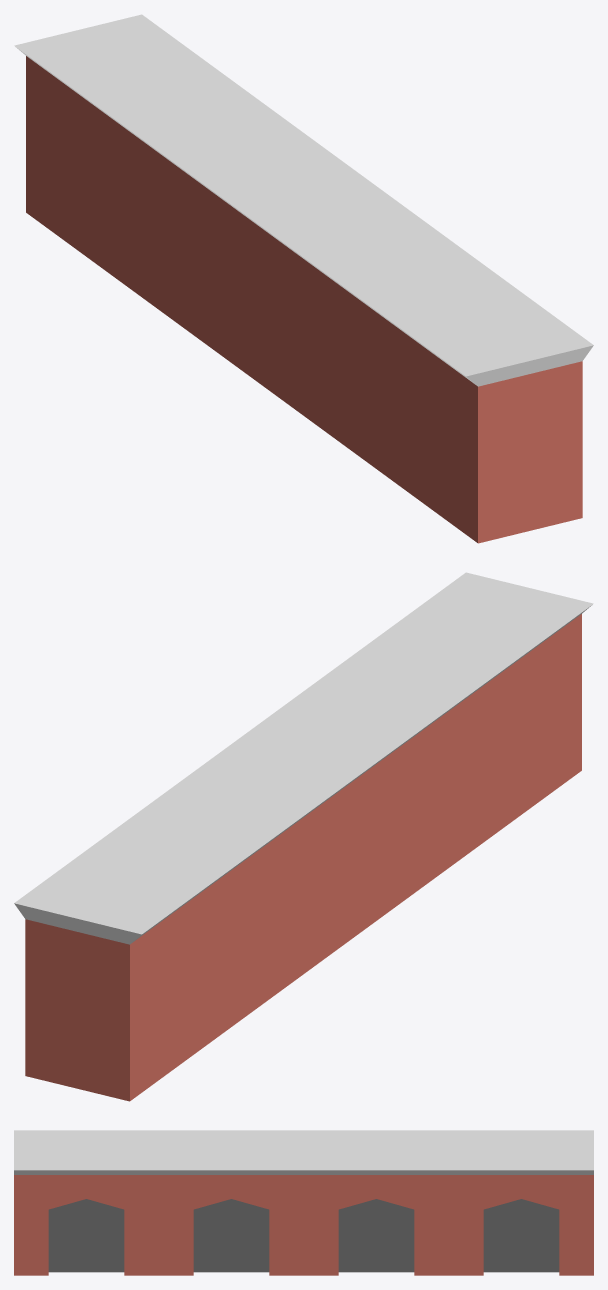
File: WallModel.dae
The picture shows the model from 3 angles, top to bottom: view 1: azimuth 30°, elevation 25°; view 2: azimuth 150°, elevation 25°; view 3: azimuth 270°, elevation 25°; orthographic projection. The views are drawn at different scales.
Parts seen in each view (by area): view 1: wall; view 2: wall; view 3: wall.
Boxes of the visible parts, x1,y1,x2,y2 form: wall: (14,14,593,543); wall: (14,572,593,1101); wall: (14,1130,593,1275).
Size of the model in its own units: 3.92 by 24 by 4.98.
